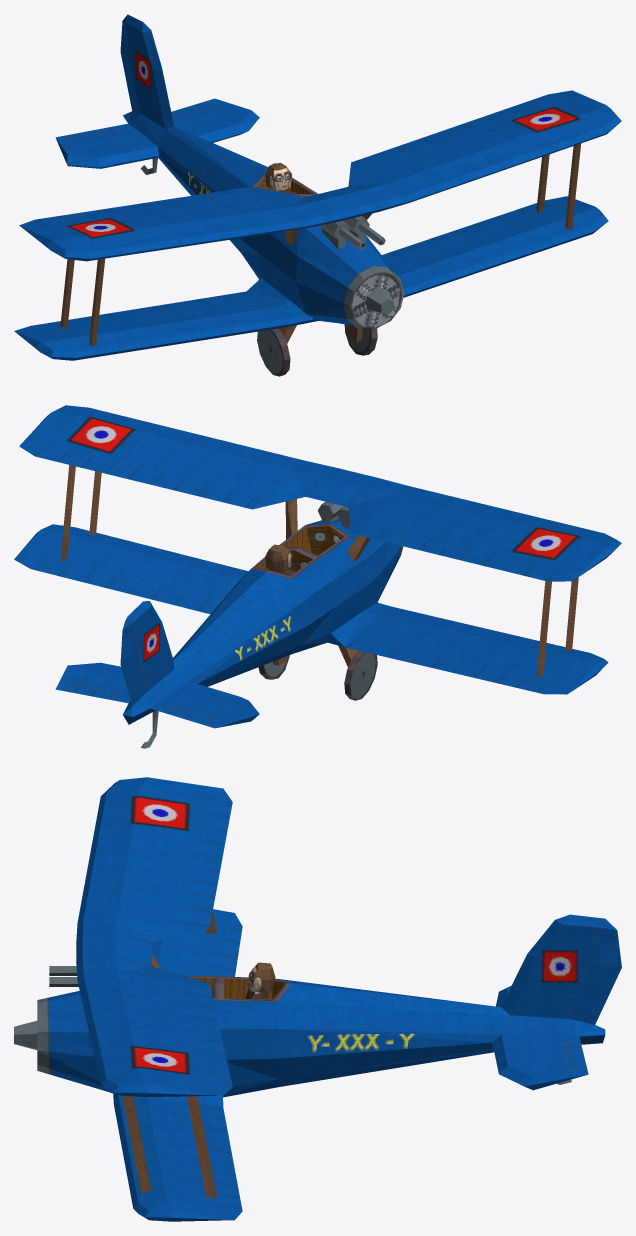
Rendered from airplane_blue_mesh.obj.
3 renders of one model, top to bottom at view 1: azimuth 30°, elevation 25°; view 2: azimuth 150°, elevation 25°; view 3: azimuth 270°, elevation 25°, orthographic. The views are drawn at different scales.
Size of the model in its own units: 8 by 2.91 by 6.57.
1 material, 1 textured.
